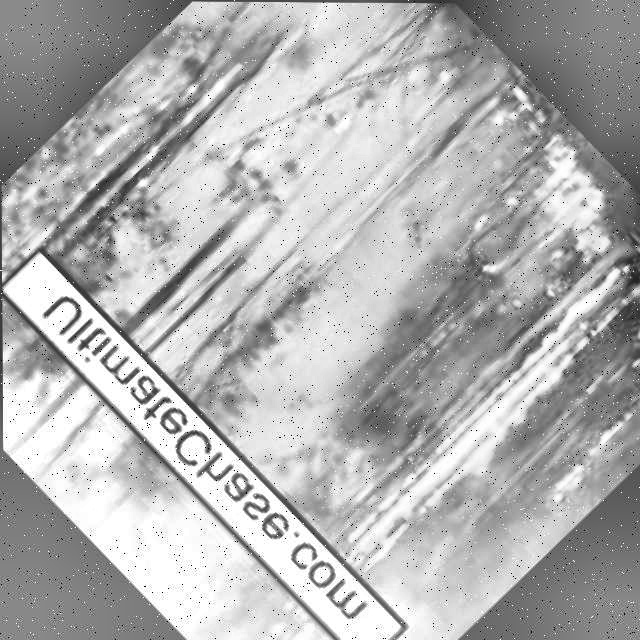Fire: (324, 256, 640, 583), (80, 1, 295, 213), (478, 119, 635, 276), (536, 366, 640, 504), (1, 227, 40, 304)
Smoke: (0, 0, 640, 640), (1, 245, 385, 640)
